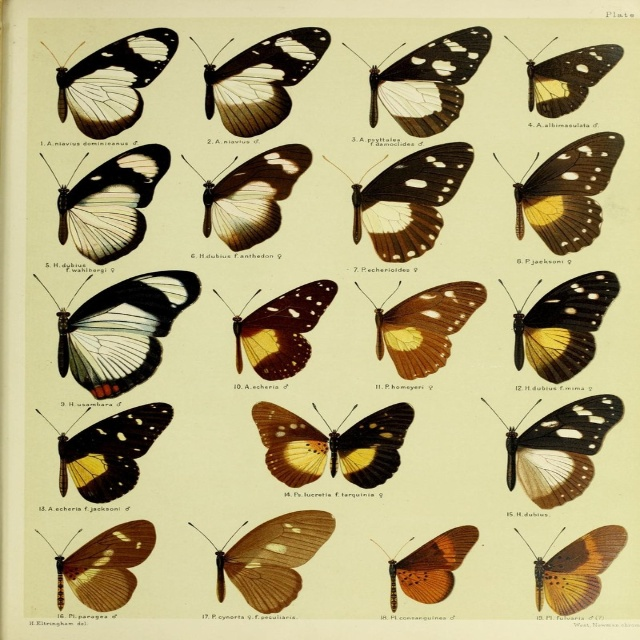Butterfly: (28, 272, 213, 401), (319, 142, 476, 268), (488, 128, 627, 259), (477, 394, 623, 511), (175, 140, 315, 260), (189, 19, 343, 128), (182, 511, 336, 620), (34, 400, 186, 510), (38, 142, 173, 265), (368, 22, 497, 144), (39, 29, 182, 138), (251, 399, 416, 492), (494, 271, 622, 387), (215, 276, 343, 386), (354, 274, 484, 380), (34, 520, 162, 614), (501, 34, 631, 121), (514, 522, 631, 616), (368, 522, 482, 611)
